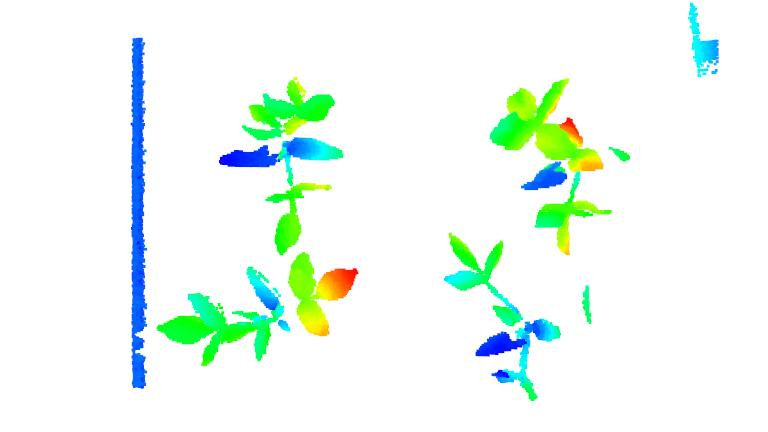mungbean: (156, 251, 360, 373), (489, 78, 620, 257), (217, 77, 350, 253), (447, 232, 565, 404)
